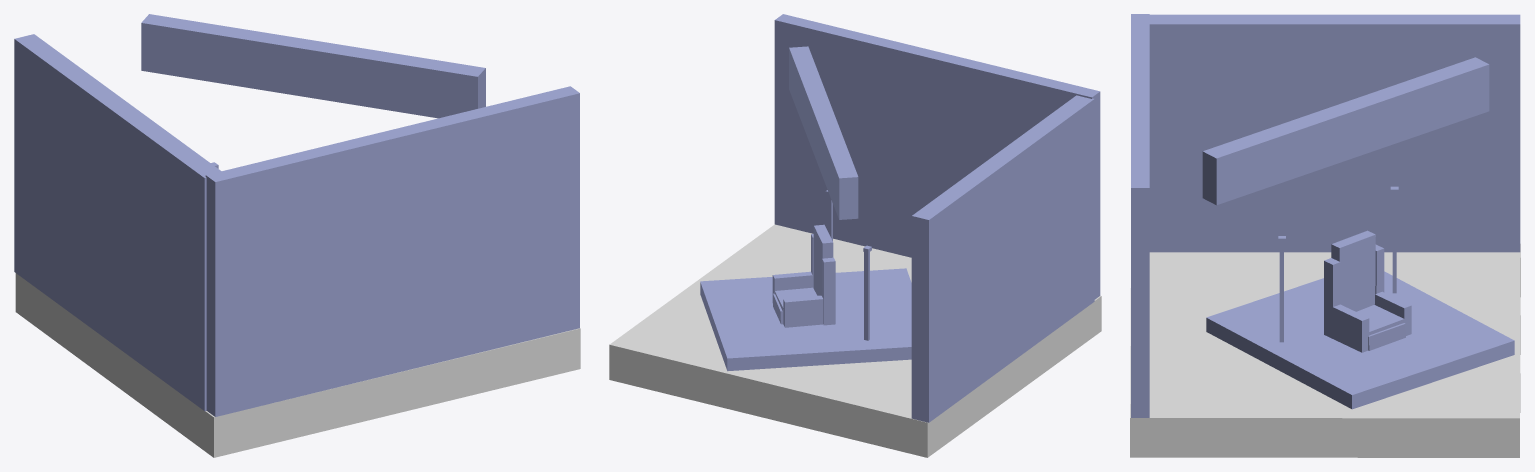
Rendered from rulerThrone.glb.
The picture shows the model from 3 angles, left to right: view 1: azimuth 30°, elevation 25°; view 2: azimuth 150°, elevation 25°; view 3: azimuth 270°, elevation 25°; orthographic projection. The views are drawn at different scales.
Parts seen in each view (by area): view 1: Cube.001, Cube.002, Cube, Cube.022; view 2: Cube.002, Cube.001, Cube, Cube.003, Cube.022, Cube.008, Cube.006, Cube.005, Cube.007, Cube.009, Cube.010; view 3: Cube.002, Cube, Cube.003, Cube.022, Cube.001, Cube.006, Cube.007, Cube.009, Cube.004, Cube.008, Cube.010, Cube.012 (+1 smaller).
Part boxes in pixels (x1=…): Cube.001: x1=205, y1=86, x2=579, y2=416; Cube.002: x1=14, y1=34, x2=221, y2=411; Cube: x1=15, y1=273, x2=580, y2=457; Cube.022: x1=141, y1=14, x2=485, y2=118; Cube.002: x1=911, y1=95, x2=1094, y2=422; Cube.001: x1=774, y1=14, x2=1100, y2=299; Cube: x1=609, y1=224, x2=1101, y2=457; Cube.003: x1=700, y1=268, x2=911, y2=371; Cube.022: x1=789, y1=46, x2=858, y2=219; Cube.008: x1=783, y1=295, x2=823, y2=327; Cube.006: x1=813, y1=224, x2=833, y2=296; Cube.005: x1=822, y1=257, x2=835, y2=325; Cube.007: x1=772, y1=271, x2=812, y2=302; Cube.009: x1=773, y1=287, x2=817, y2=324; Cube.010: x1=864, y1=252, x2=869, y2=340; Cube.002: x1=1149, y1=14, x2=1520, y2=252; Cube: x1=1130, y1=243, x2=1520, y2=457; Cube.003: x1=1206, y1=271, x2=1514, y2=409; Cube.022: x1=1202, y1=57, x2=1489, y2=205; Cube.001: x1=1131, y1=14, x2=1149, y2=417; Cube.006: x1=1331, y1=230, x2=1375, y2=311; Cube.007: x1=1333, y1=304, x2=1369, y2=352; Cube.009: x1=1356, y1=305, x2=1405, y2=350; Cube.004: x1=1324, y1=258, x2=1340, y2=338; Cube.008: x1=1374, y1=291, x2=1411, y2=335; Cube.010: x1=1392, y1=193, x2=1396, y2=293; Cube.012: x1=1279, y1=242, x2=1283, y2=342.
Bounding box in the file's own units: 2.24 × 1.64 × 2.11.
